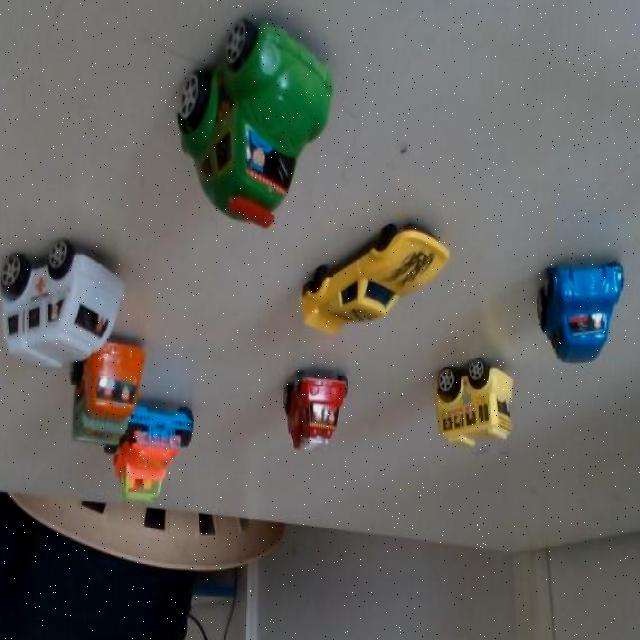car: (168, 12, 348, 228), (0, 217, 140, 392), (304, 213, 446, 345), (425, 345, 518, 452), (116, 401, 202, 511), (272, 352, 350, 464), (73, 334, 143, 457), (544, 259, 624, 364)
